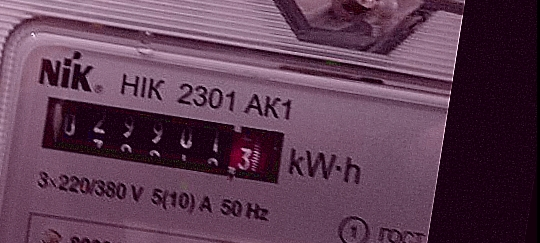0: (57, 107, 79, 137), (175, 120, 196, 151)
1: (206, 124, 224, 153)
2: (88, 106, 110, 135)
3: (233, 143, 254, 171)
9: (117, 111, 137, 140), (148, 116, 165, 145)
screen: (29, 84, 297, 195)
